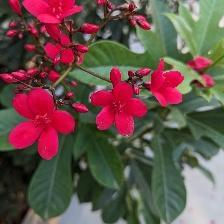jatropha: (8, 90, 77, 161), (90, 83, 148, 139), (152, 58, 187, 109), (23, 1, 86, 29), (42, 34, 80, 67), (186, 55, 215, 75), (195, 75, 217, 92)
